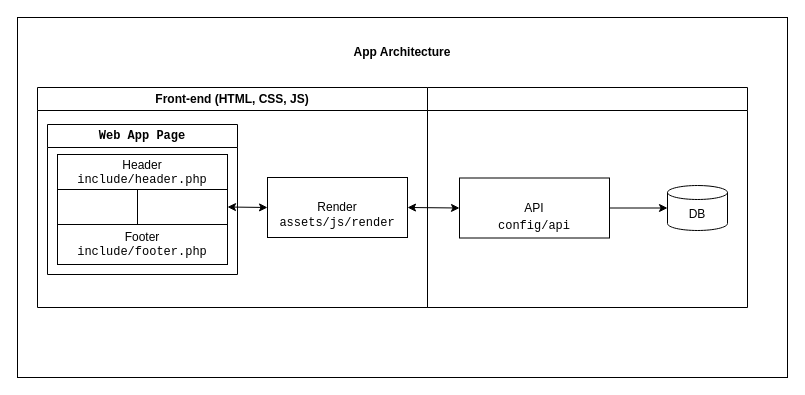
This 805x395 diagram has some shape labels left out. Each missing label, with the box of its shape:
Back-end (PHP, MySQL): (426, 86, 748, 308)
Dynamic: (136, 188, 228, 224)
Static: (56, 188, 138, 224)
